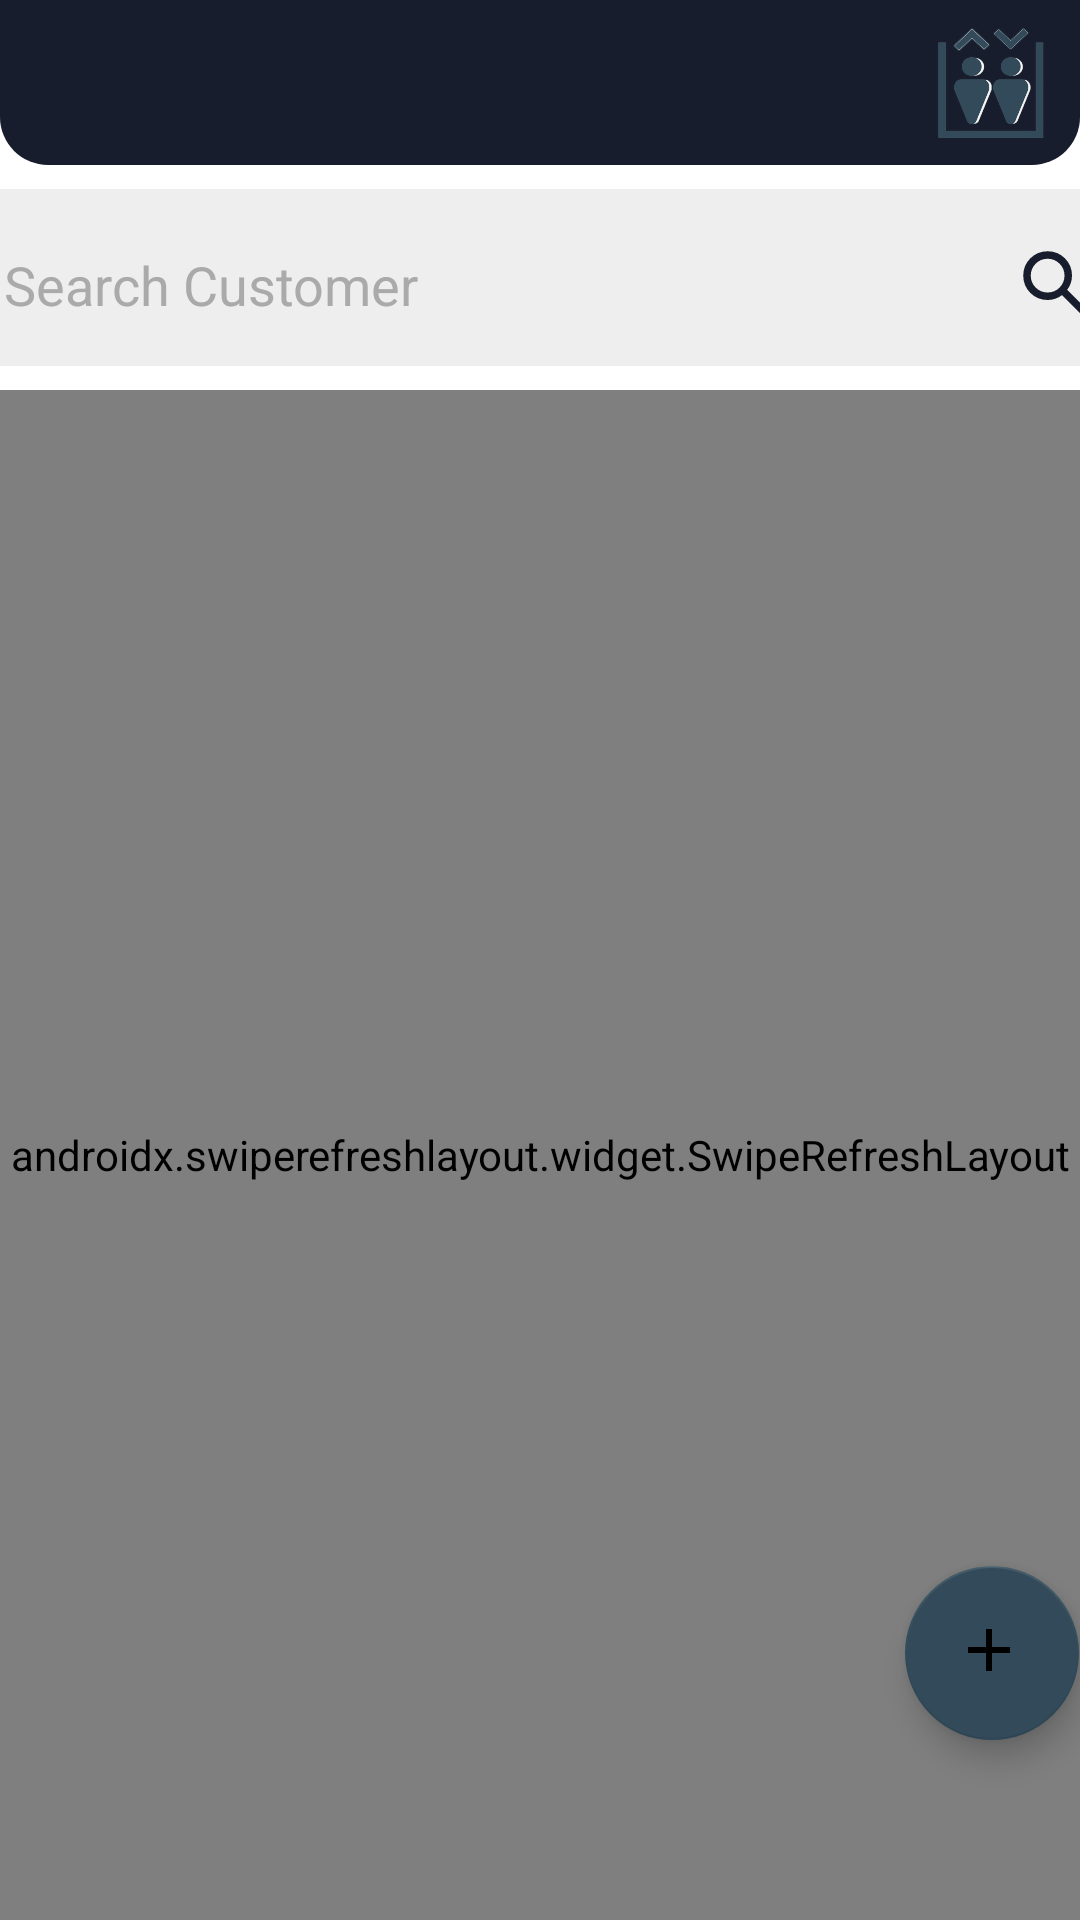

Icons on this 1080w x 1920h Android screen, each with its box as [x1=x1, y1=y1, x2=x2, y2=y2]:
Add: [x1=905, y1=1566, x2=1079, y2=1740]
